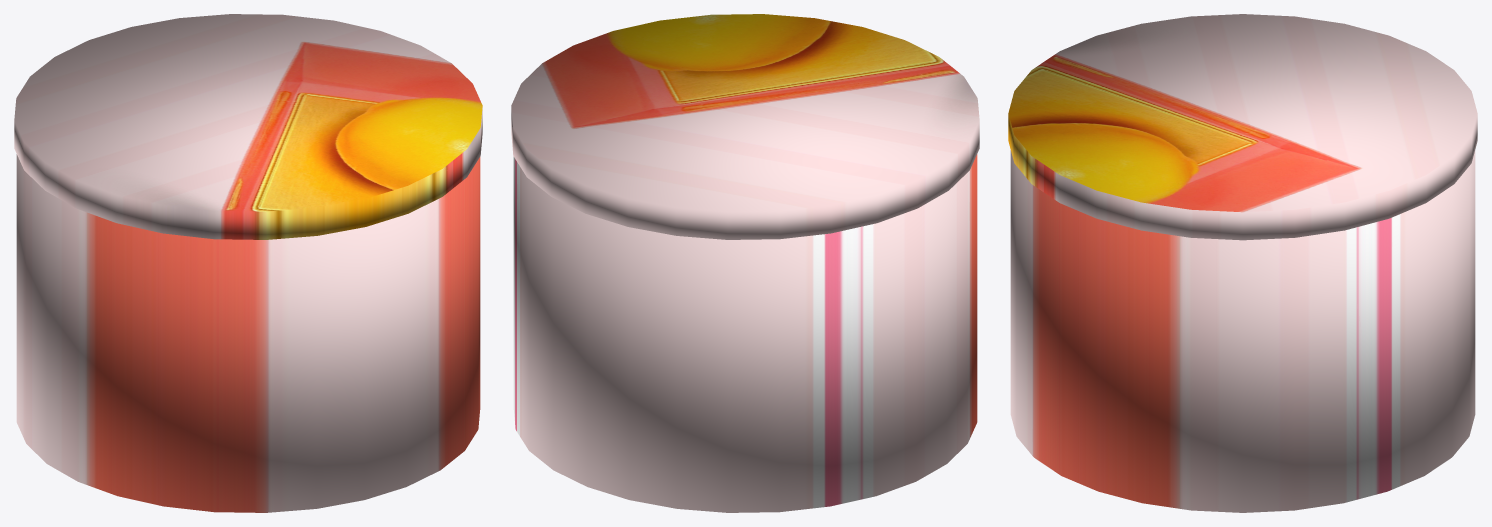
The model's file is prop_lemon_entremet.glb.
3 renders of one model, left to right at view 1: azimuth 30°, elevation 25°; view 2: azimuth 150°, elevation 25°; view 3: azimuth 270°, elevation 25°, orthographic.
Parts seen in each view (by area): view 1: prop_lemon_entremet; view 2: prop_lemon_entremet; view 3: prop_lemon_entremet.
Boxes of the visible parts, x1,y1,x2,y2 form: prop_lemon_entremet: [14, 14, 482, 512]; prop_lemon_entremet: [511, 14, 979, 512]; prop_lemon_entremet: [1008, 14, 1477, 512].
Size of the model in its own units: 0.1212 by 0.086 by 0.1212.
Materials: 1 (1 with a texture image).
